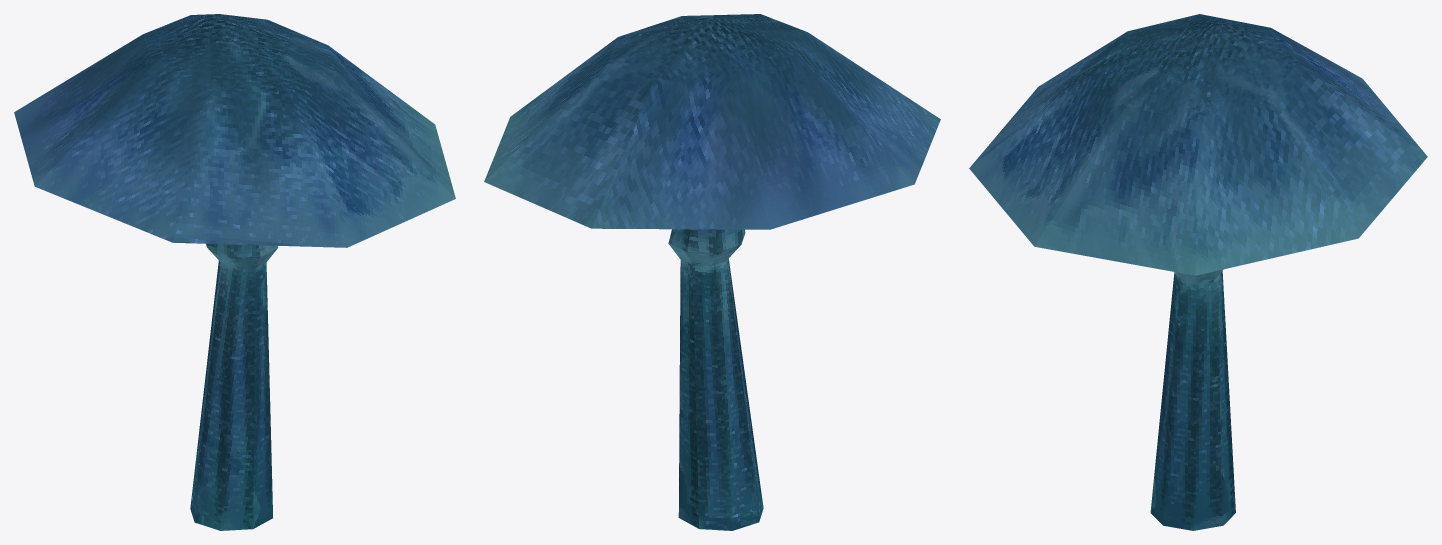
The model's file is BumpyMushroom.glb.
3 views of the same model, side by side, from view 1: azimuth 30°, elevation 25°; view 2: azimuth 150°, elevation 25°; view 3: azimuth 270°, elevation 25° (orthographic). The views are drawn at different scales.
Visible parts, largest first — view 1: Cylinder.002; view 2: Cylinder.002; view 3: Cylinder.002.
Part boxes in pixels (bbox=[...]): Cylinder.002: bbox=[14, 14, 455, 530]; Cylinder.002: bbox=[484, 14, 940, 530]; Cylinder.002: bbox=[969, 14, 1427, 530].
Size of the model in its own units: 9.71 by 11.37 by 9.74.
1 material, 1 textured.
